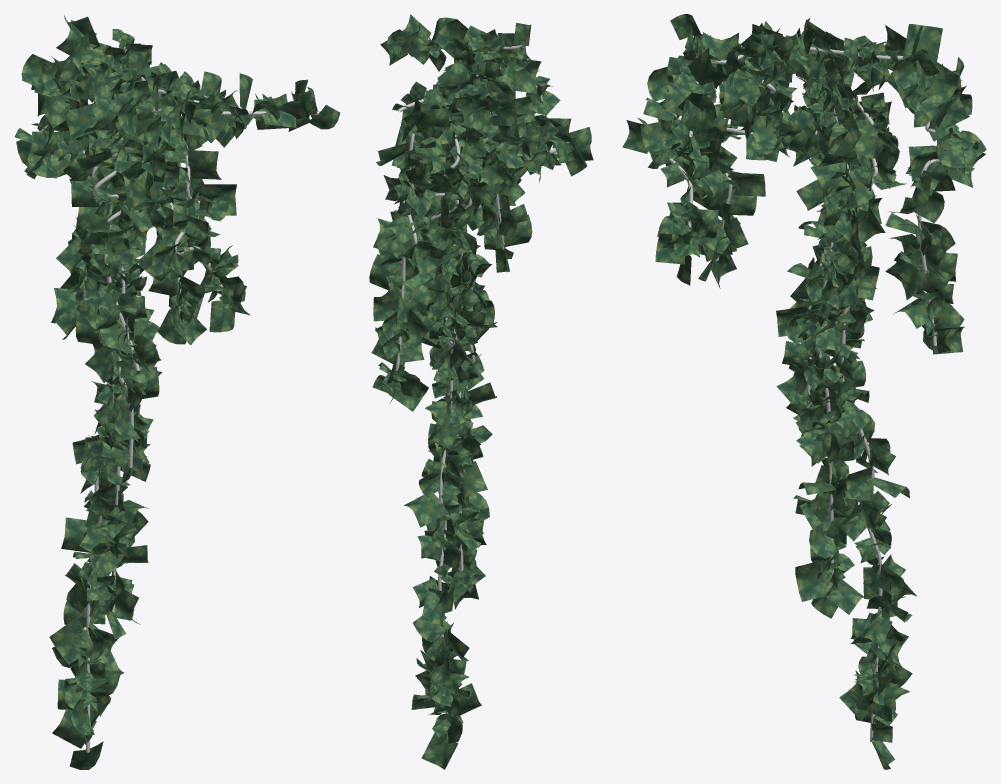
Rendered from SM_Ivy_06.fbx.
3 views of the same model, side by side, from view 1: azimuth 30°, elevation 25°; view 2: azimuth 150°, elevation 25°; view 3: azimuth 270°, elevation 25° (orthographic). The views are drawn at different scales.
Parts seen in each view (by area): view 1: SM_Ivy_06_LOD0; view 2: SM_Ivy_06_LOD0; view 3: SM_Ivy_06_LOD0.
Part boxes in pixels (<box>): SM_Ivy_06_LOD0: <box>14,15,340,769</box>; SM_Ivy_06_LOD0: <box>369,14,593,769</box>; SM_Ivy_06_LOD0: <box>622,14,986,769</box>.
Size of the model in its own units: 122 by 176 by 404.
Materials: 2 (1 with a texture image).
